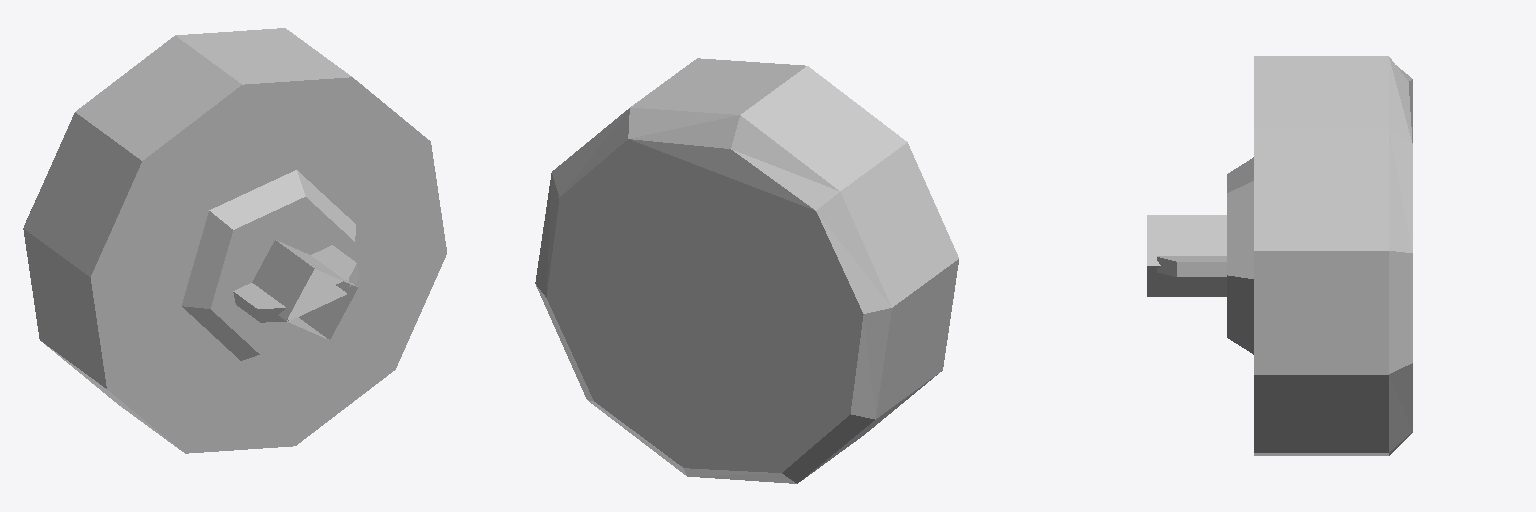
The model's file is wheel38.obj.
3 views of the same model, side by side, from view 1: azimuth 30°, elevation 25°; view 2: azimuth 150°, elevation 25°; view 3: azimuth 270°, elevation 25° (orthographic).
Parts seen in each view (by area): view 1: wheel_low_textures; view 2: wheel_low_textures; view 3: wheel_low_textures.
Part boxes in pixels (bbox=[...]): wheel_low_textures: bbox=[23, 28, 446, 453]; wheel_low_textures: bbox=[535, 58, 958, 483]; wheel_low_textures: bbox=[1147, 56, 1412, 455].
Size of the model in its own units: 1.54 by 1.54 by 0.9907.